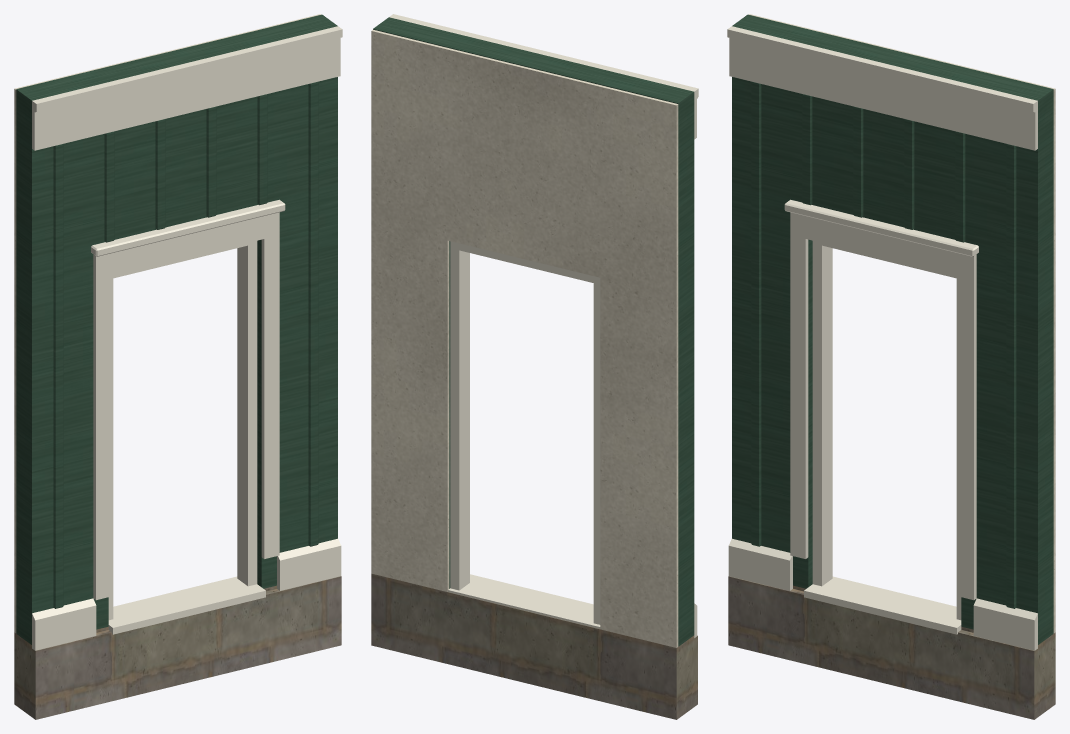
The model's file is w_bdoor.glb.
3 views of the same model, side by side, from view 1: azimuth 30°, elevation 25°; view 2: azimuth 150°, elevation 25°; view 3: azimuth 330°, elevation 25° (orthographic).
Parts seen in each view (by area): view 1: w_bdoor_boards, w_bdoor_trim, w_bdoor_stone, w_bdoor_frame, w_bdoor_plaster; view 2: w_bdoor_plaster, w_bdoor_stone, w_bdoor_boards, w_bdoor_frame, w_bdoor_trim; view 3: w_bdoor_boards, w_bdoor_trim, w_bdoor_stone, w_bdoor_frame, w_bdoor_plaster.
Part boxes in pixels (x1,y1,x2,y2): w_bdoor_boards: (16, 14, 337, 644); w_bdoor_trim: (32, 26, 342, 650); w_bdoor_stone: (14, 576, 341, 719); w_bdoor_frame: (108, 240, 257, 620); w_bdoor_plaster: (14, 14, 320, 633); w_bdoor_plaster: (371, 29, 678, 647); w_bdoor_stone: (371, 573, 697, 719); w_bdoor_boards: (373, 17, 694, 646); w_bdoor_frame: (450, 241, 600, 624); w_bdoor_trim: (389, 14, 698, 637); w_bdoor_boards: (732, 14, 1053, 644); w_bdoor_trim: (727, 26, 1037, 650); w_bdoor_stone: (728, 576, 1055, 719); w_bdoor_frame: (812, 240, 961, 620); w_bdoor_plaster: (749, 14, 1055, 633).
Size of the model in its own units: 2 by 3.85 by 0.27.
5 materials, 3 textured.
